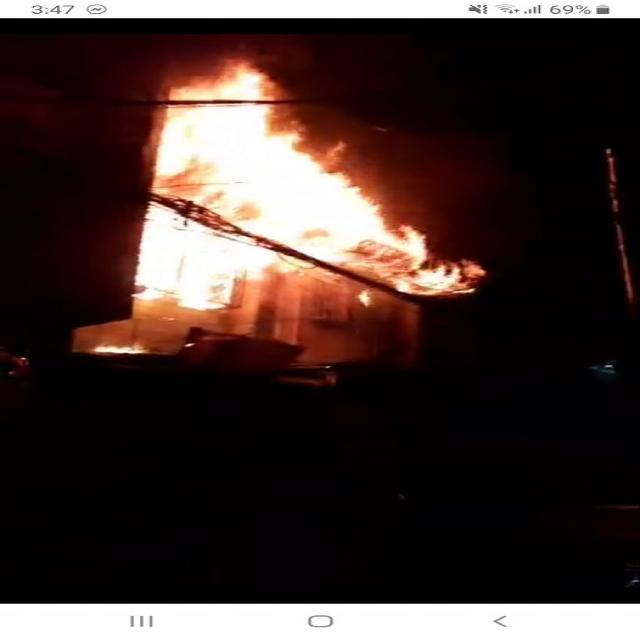Fire: (142, 93, 472, 321), (167, 42, 283, 124)
